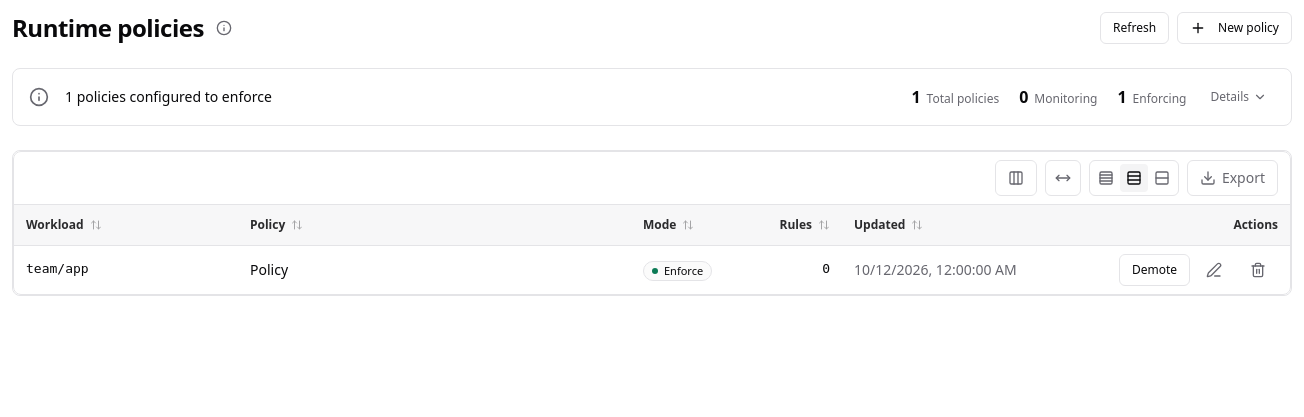
Test case: blocks duplicate demotion after foreign response
expect the element with test id "runtime-policy-row-policy" is shown: met, box [1119, 254, 1278, 286]
Click the button with test id "runtime-policy-demote-policy" at (1154, 270), box [1119, 254, 1190, 286]
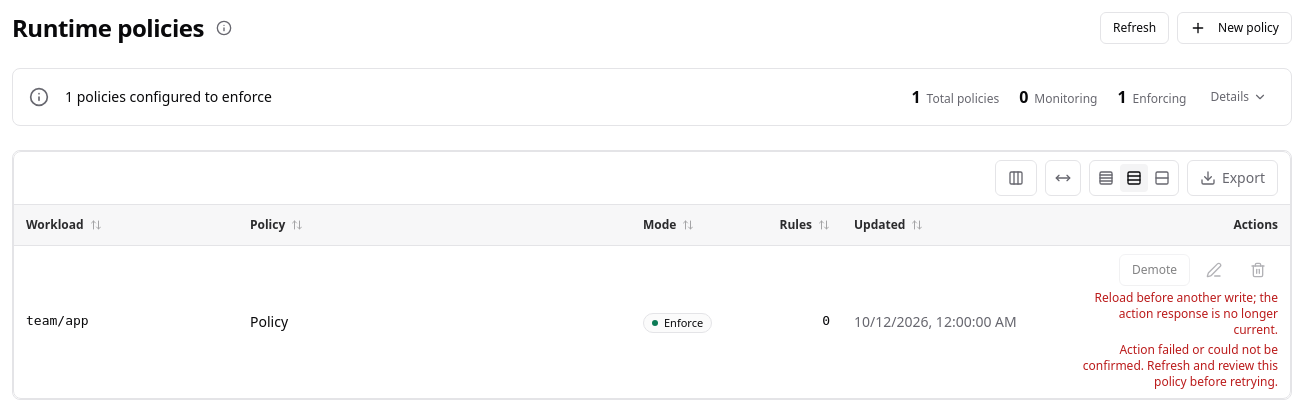
expect the text "Reload before another write" is shown: met, box [1095, 288, 1278, 338]
expect the button with test id "runtime-policy-demote-policy" is disabled: met, box [1119, 254, 1190, 286]
